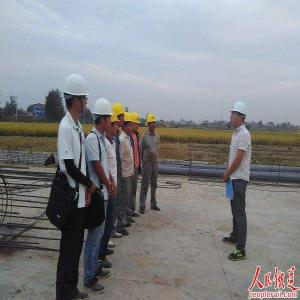white: (64, 71, 90, 119), (93, 98, 112, 133), (229, 101, 249, 131)
yellow: (112, 102, 126, 130), (108, 111, 119, 139), (122, 113, 134, 138), (146, 113, 158, 133), (132, 113, 142, 135)
